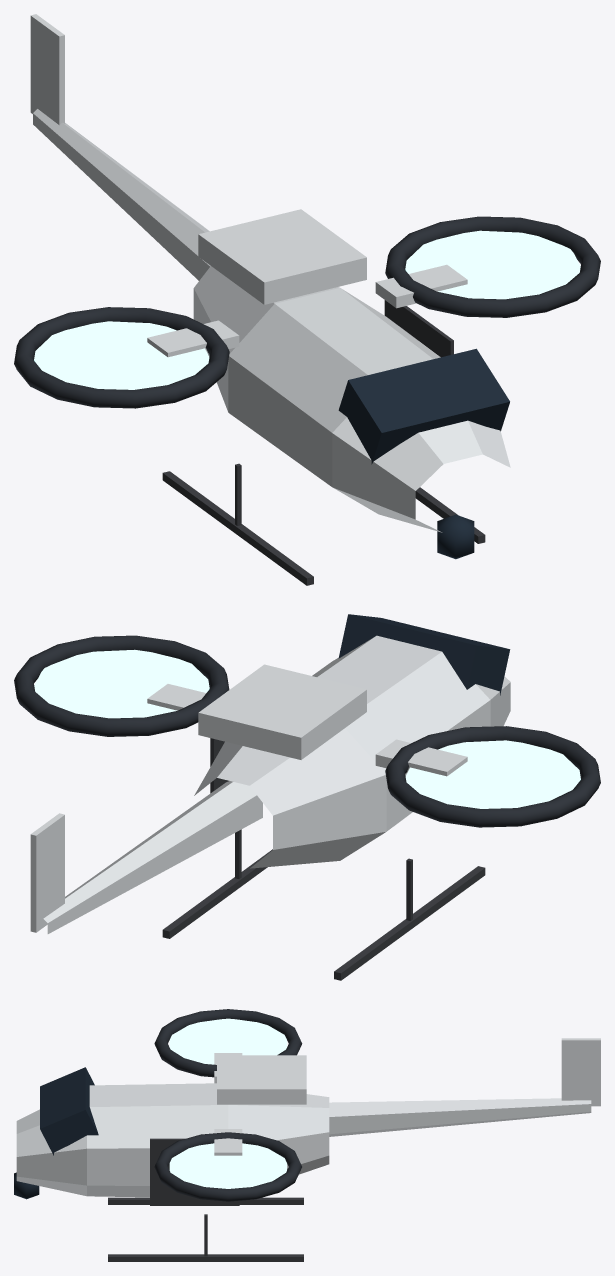
File: veh_air_heli_transport_a09.glb
3 views of the same model, one above another, from view 1: azimuth 30°, elevation 25°; view 2: azimuth 150°, elevation 25°; view 3: azimuth 270°, elevation 25° (orthographic). The views are drawn at different scales.
Visible parts, largest first — view 1: body, rotor_r, rotor_l, door; view 2: body, rotor_r, rotor_l; view 3: body, rotor_l, rotor_r, door.
Boxes of the visible parts, left/top/right/bottom form: body: left=30, top=14, right=510, bottom=585; rotor_r: left=14, top=307, right=229, bottom=408; rotor_l: left=385, top=216, right=600, bottom=317; door: left=384, top=300, right=453, bottom=357; body: left=30, top=614, right=510, bottom=980; rotor_r: left=385, top=726, right=600, bottom=827; rotor_l: left=14, top=635, right=229, bottom=736; body: left=14, top=1038, right=600, bottom=1261; rotor_l: left=154, top=1132, right=301, bottom=1201; rotor_r: left=154, top=1009, right=302, bottom=1077; door: left=150, top=1138, right=239, bottom=1205.
Size of what is drawn, in the model's own units: 7.84 by 3.8 by 10.48.
